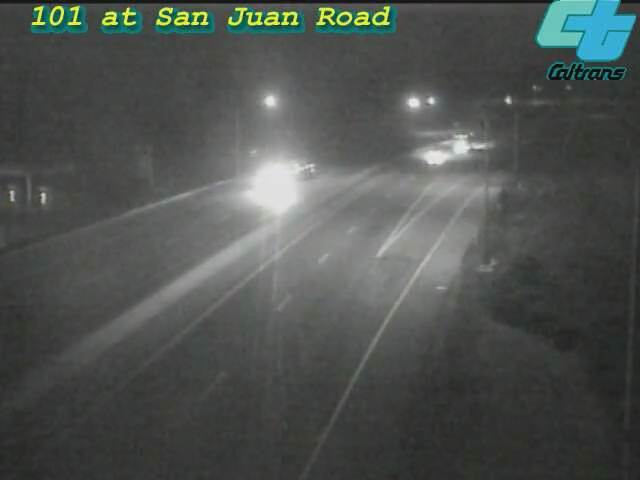vehicle: (228, 141, 308, 221), (437, 117, 487, 167), (412, 131, 462, 181)
